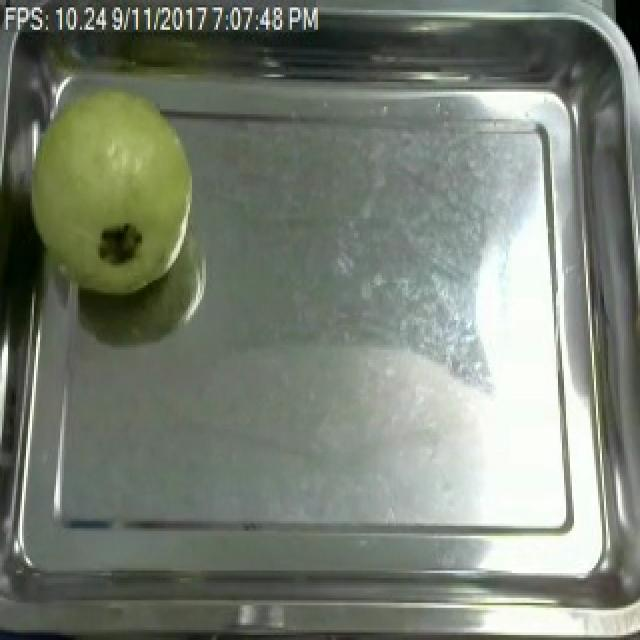Fruit: (16, 72, 202, 305)
